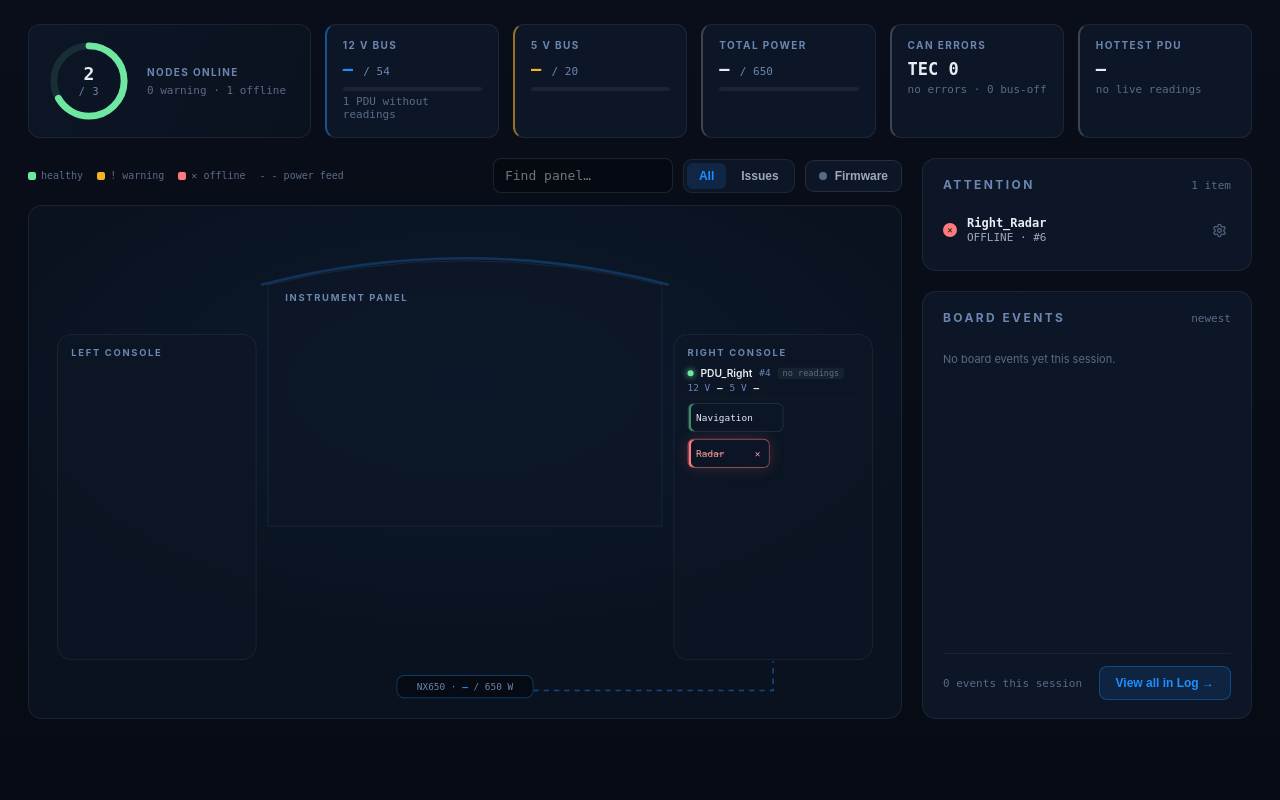
T19 PDU panel (B71) › "Feeds · N" lists the boards it powers, and opening one switches to its panel
Click the button titled "PDU_Right — power zone details" at (770, 382), box x1=684 y1=365 x2=855 y2=399
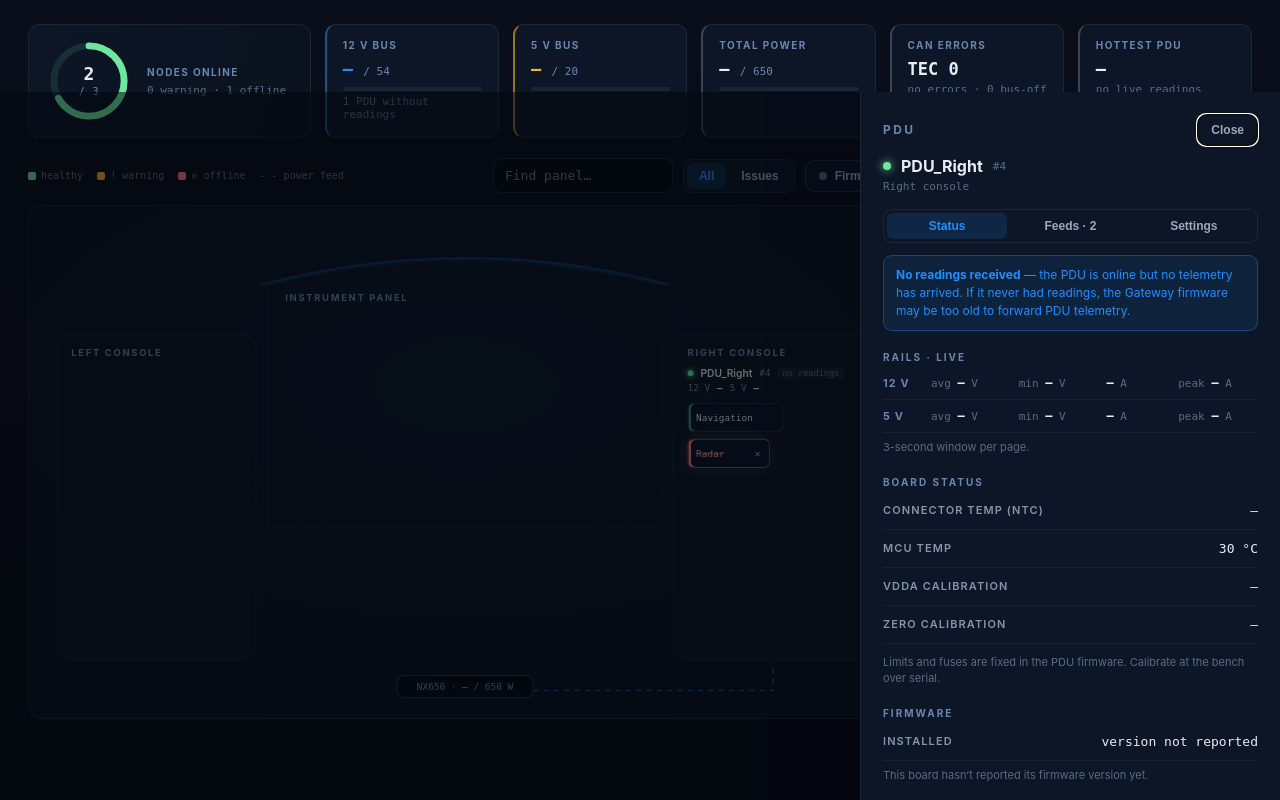
Click the tab "Feeds · 2" at (1070, 226), box x1=1010 y1=213 x2=1131 y2=239
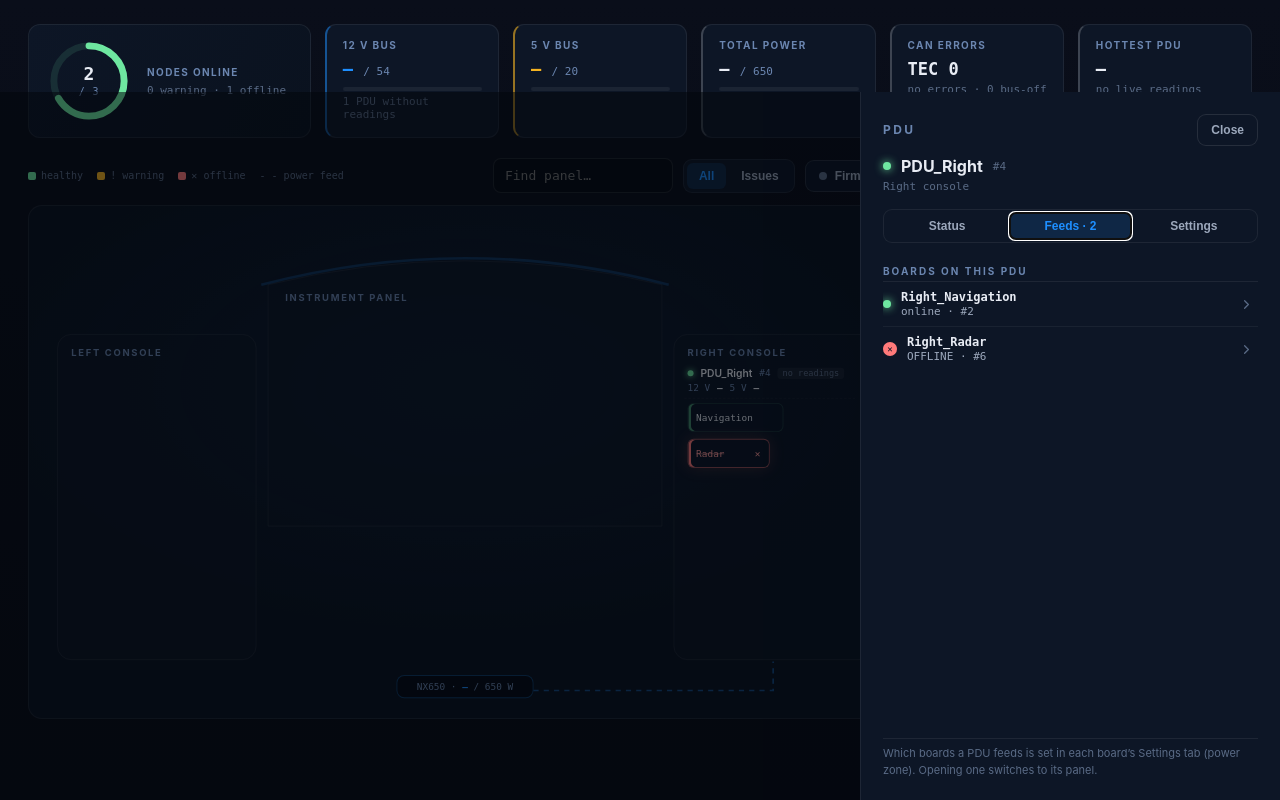
Expected: the list items read "Right_Navigationonline · #2", "✕Right_RadarOFFLINE · #6", in this order, x1=883 y1=282 x2=1258 y2=327; x1=883 y1=327 x2=1258 y2=371
Click the button named "Open Right_Navigation" at (1246, 304), box x1=1235 y1=292 x2=1258 y2=316
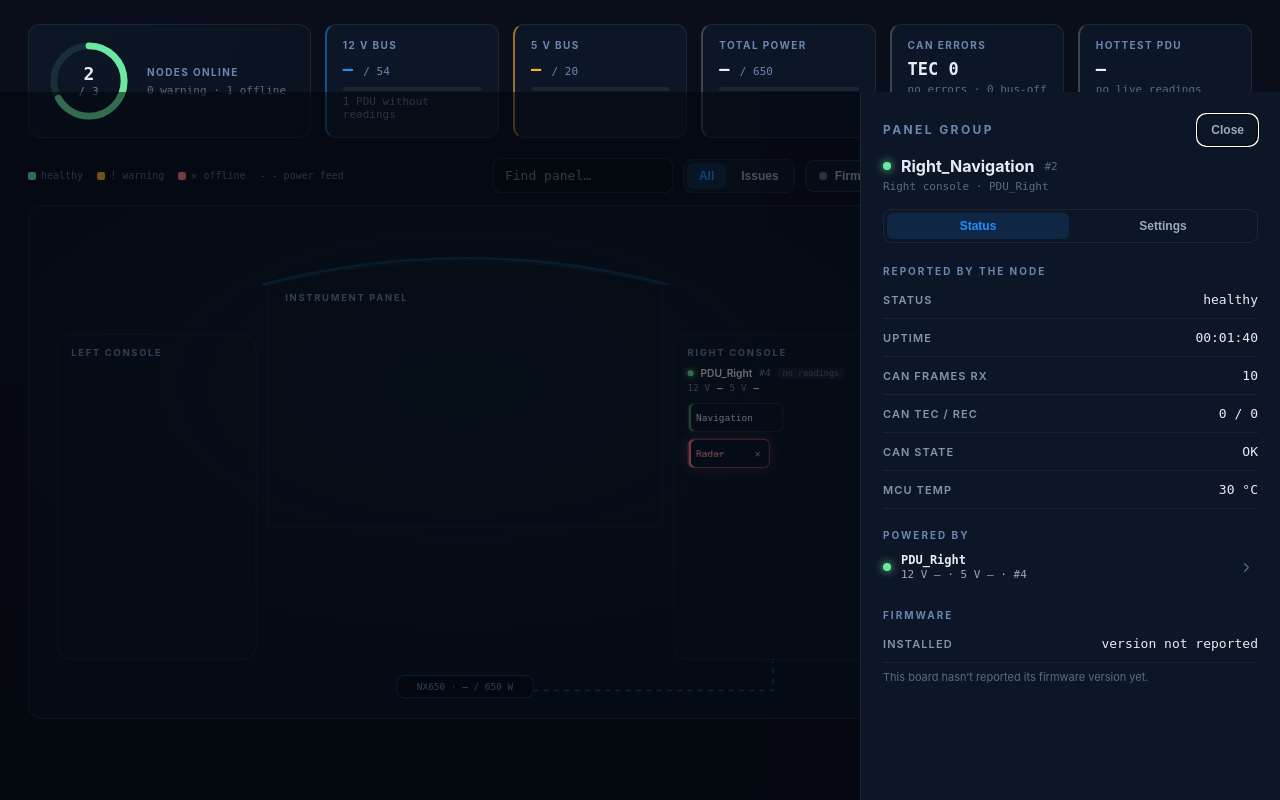
Expected: the dialog named "Panel group Right_Navigation" is shown, x1=860 y1=92 x2=1279 y2=799
